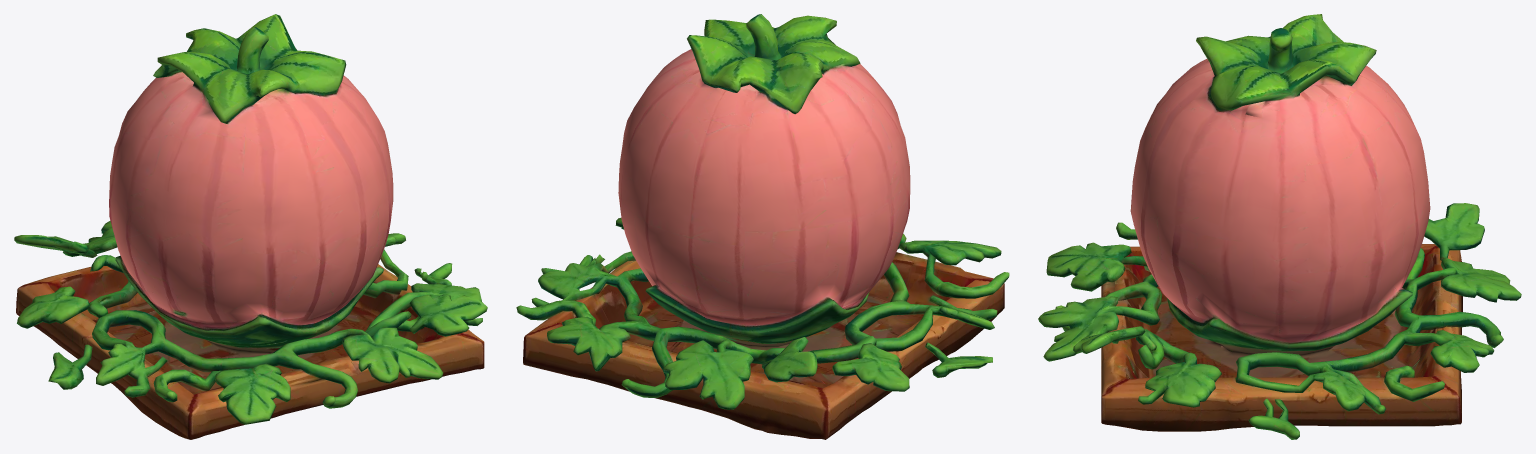
The model's file is pumpkin_pink.glb.
The picture shows the model from 3 angles, left to right: view 1: azimuth 30°, elevation 25°; view 2: azimuth 150°, elevation 25°; view 3: azimuth 270°, elevation 25°; orthographic projection. The views are drawn at different scales.
Bounding box in the file's own units: 1.88 × 1.37 × 1.8.
1 material, 1 textured.
